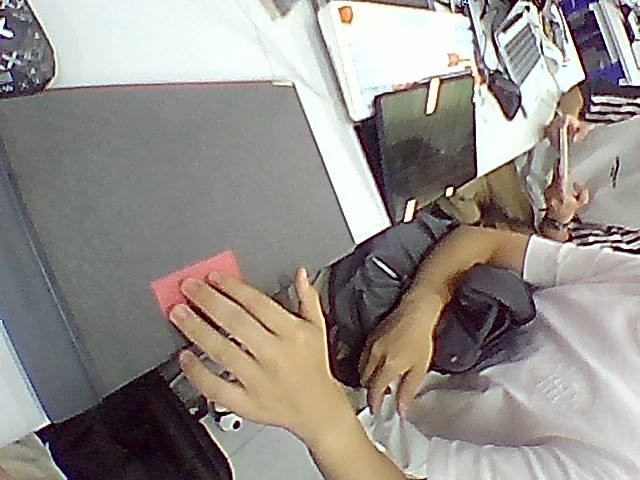card: (152, 250, 241, 313)
